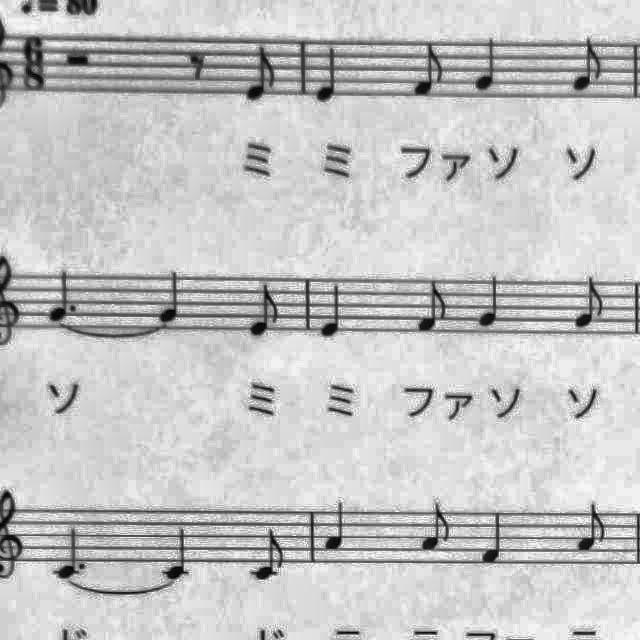Eighth-note: (565, 33, 611, 99), (407, 36, 451, 104), (240, 41, 284, 107), (566, 270, 610, 334), (248, 526, 294, 586), (411, 276, 454, 340), (244, 280, 286, 344), (572, 499, 614, 557), (415, 503, 457, 557)
Eighth-rest: (181, 44, 213, 88)
Half-rest: (60, 44, 96, 72)
Quarter-dot: (48, 521, 96, 583), (44, 262, 88, 326)
Quarter-note: (468, 32, 508, 100), (310, 41, 348, 107), (472, 270, 510, 334), (160, 524, 200, 580), (152, 265, 188, 327), (318, 280, 350, 344), (476, 512, 512, 568), (321, 501, 355, 557)
